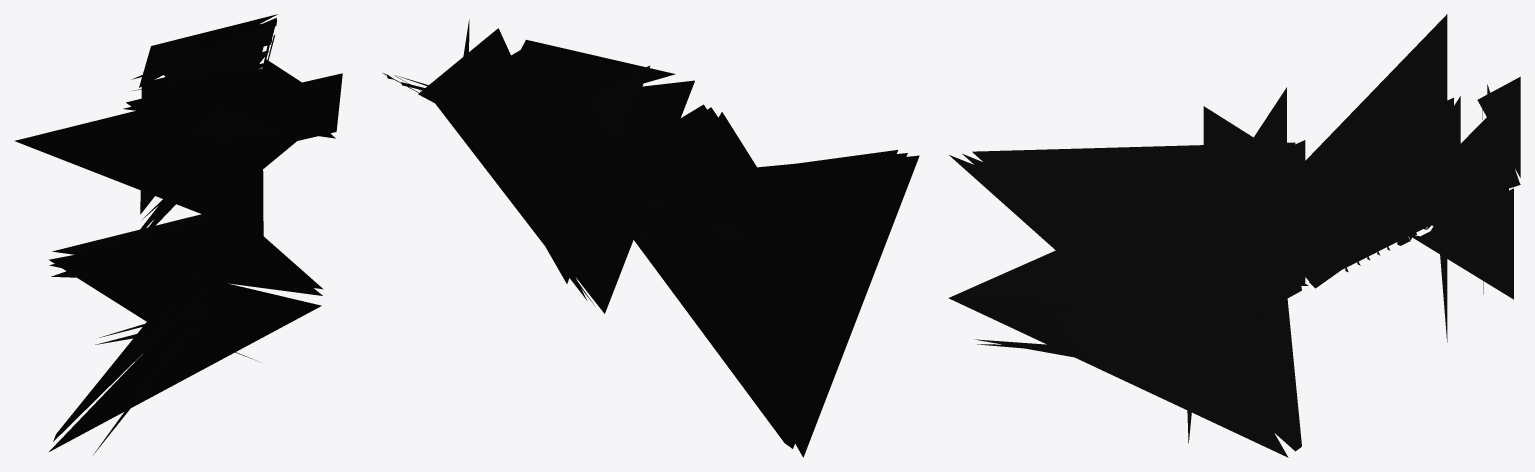
3 views of the same model, side by side, from view 1: azimuth 30°, elevation 25°; view 2: azimuth 150°, elevation 25°; view 3: azimuth 270°, elevation 25° (orthographic). The views are drawn at different scales.
Parts seen in each view (by area): view 1: ship; view 2: ship; view 3: ship.
Part boxes in pixels (bbox=[...]): ship: bbox=[15, 14, 342, 454]; ship: bbox=[382, 19, 919, 457]; ship: bbox=[948, 14, 1520, 457].
Size of the model in its own units: 4.85e-43 by 4.85e-43 by 4.81e-43.
1 material, 1 textured.
